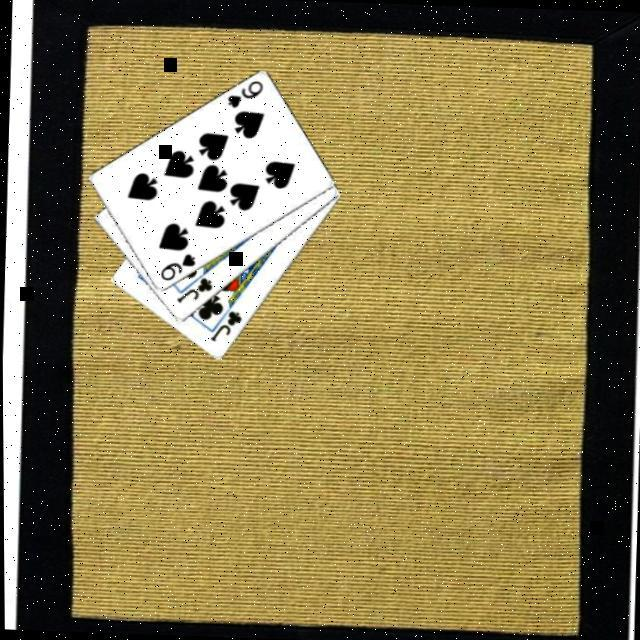9S: (224, 77, 266, 112), (157, 251, 198, 285)
JC: (206, 308, 244, 346), (174, 275, 215, 308)
